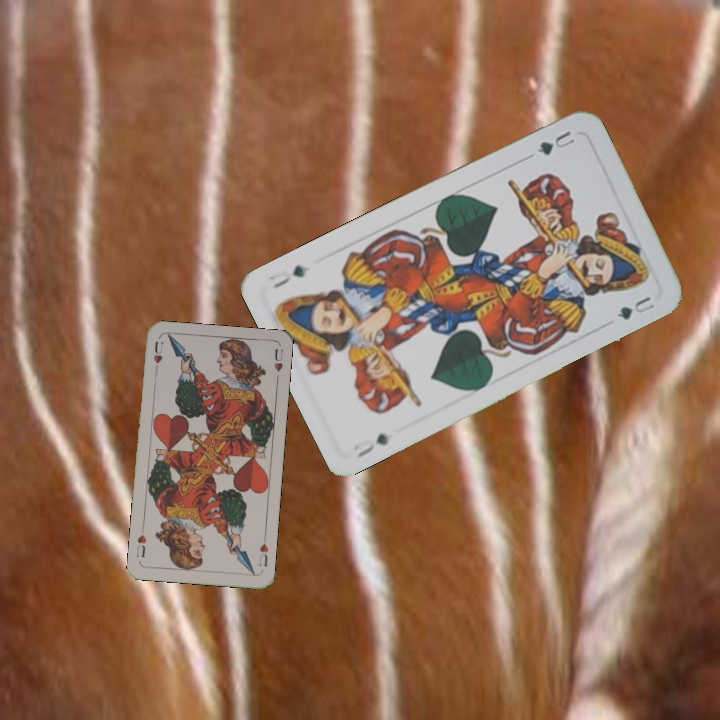GU: (532, 126, 580, 158), (348, 429, 391, 461)
HU: (149, 337, 166, 376), (255, 539, 271, 569)
